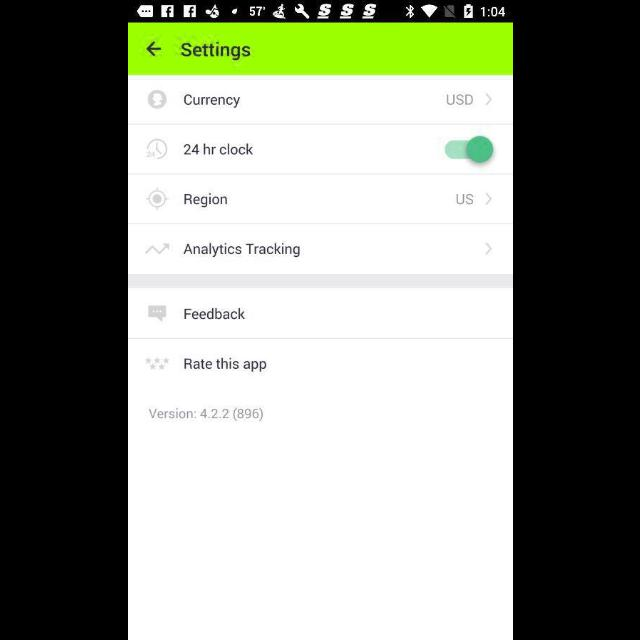icon: (145, 188, 169, 212), (146, 140, 168, 160), (148, 90, 166, 110), (148, 306, 166, 322), (145, 243, 169, 255), (146, 42, 160, 58), (484, 243, 492, 255), (484, 193, 492, 205), (484, 94, 492, 106)
image: (145, 358, 169, 370)
switch: (443, 136, 492, 162)
text: (182, 243, 300, 257), (148, 408, 262, 422), (180, 42, 250, 62), (184, 358, 266, 372), (184, 144, 252, 156), (184, 94, 240, 108), (183, 308, 244, 320), (184, 193, 226, 207), (446, 94, 472, 106), (456, 193, 472, 205)
toolbar: (128, 24, 512, 76)
uppertaskbar: (128, 1, 512, 23)
